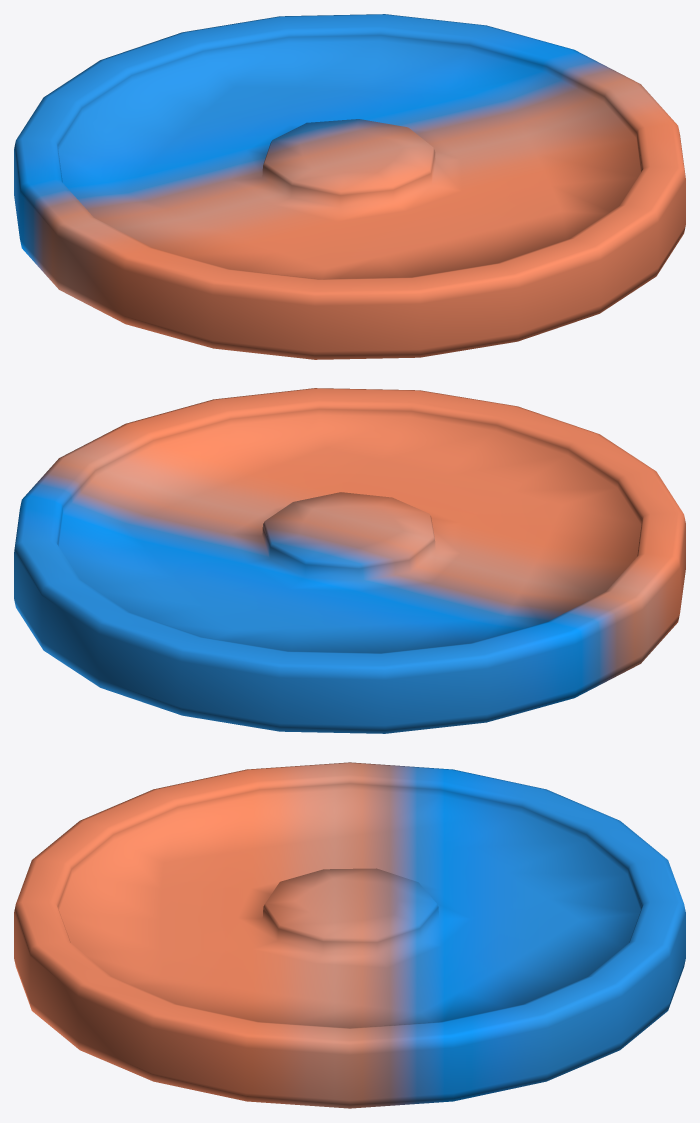
The model's file is Tablet2.fbx.
3 views of the same model, one above another, from view 1: azimuth 30°, elevation 25°; view 2: azimuth 150°, elevation 25°; view 3: azimuth 270°, elevation 25° (orthographic).
Parts seen in each view (by area): view 1: Tablet_005; view 2: Tablet_005; view 3: Tablet_005.
Boxes of the visible parts, x1,y1,x2,y2 form: Tablet_005: (14, 14, 685, 359); Tablet_005: (14, 388, 685, 733); Tablet_005: (14, 762, 685, 1108).
Size of the model in its own units: 5.28 by 0.5934 by 5.27.
